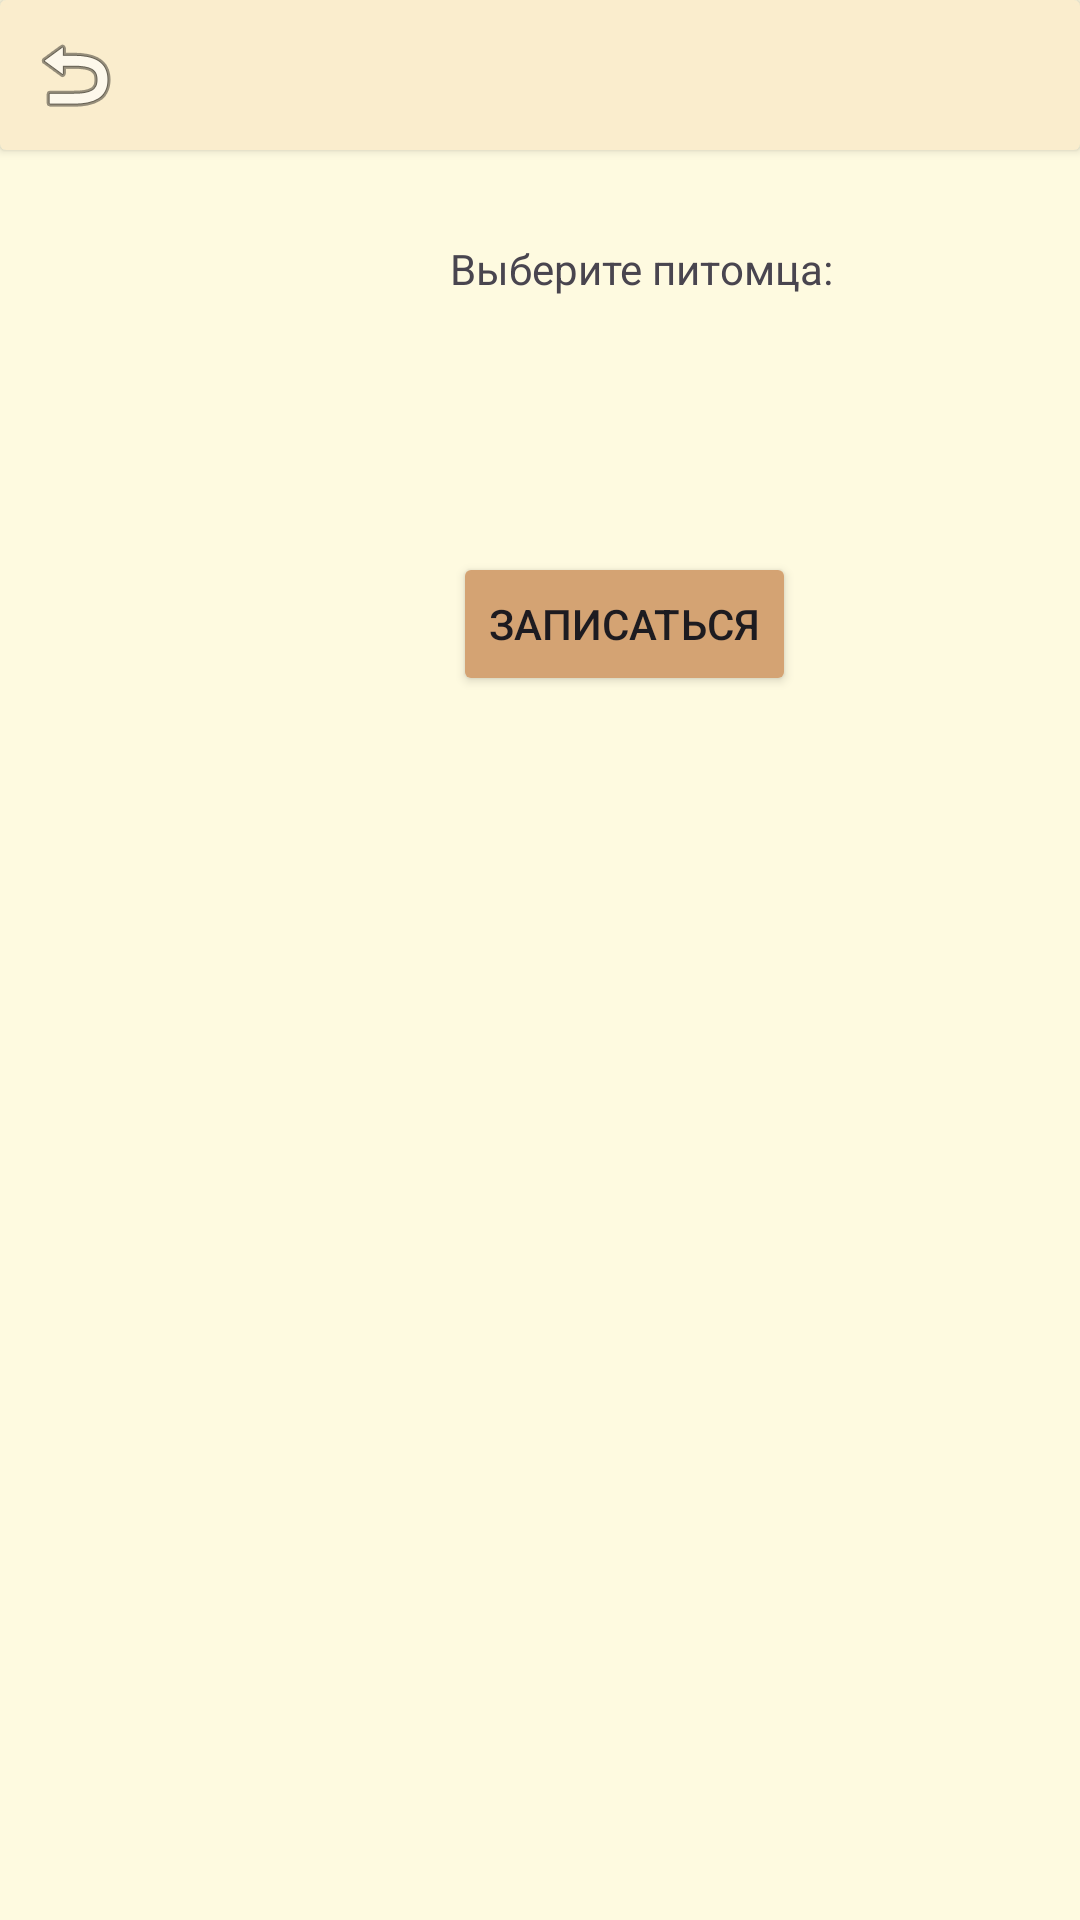

Locate icon controls on the screen. Image size 1080x1920, boxes as (x1, y1, x2, y2).
revert: (42, 44, 111, 107)
